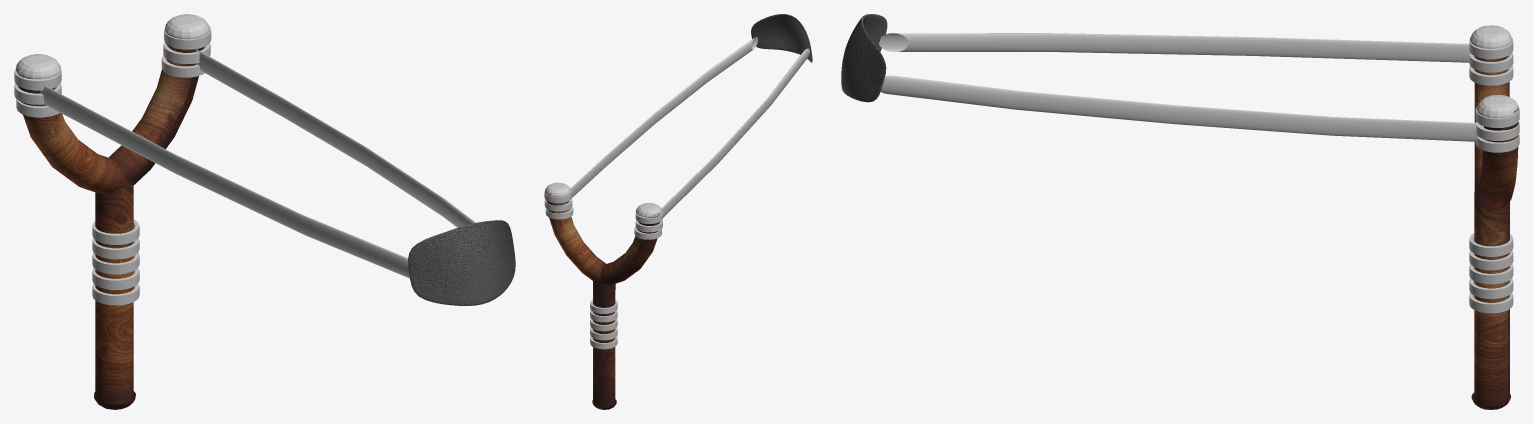
Rendered from slingshot.fbx.
The picture shows the model from 3 angles, left to right: view 1: azimuth 30°, elevation 25°; view 2: azimuth 150°, elevation 25°; view 3: azimuth 270°, elevation 25°; orthographic projection. The views are drawn at different scales.
Visible parts, largest first — view 1: Cylinder005, Sling_Material #49_0, Cylinder002, Cylinder003, Cylinder004, Object001_Scene_White_0, Object002_Scene_White_0, Tube007, Tube011, Tube009, Tube010, Tube008 (+5 smaller); view 2: Cylinder005, Cylinder002, Sling_Material #49_0, Cylinder004, Cylinder003, Object002_Scene_White_0, Object001_Scene_White_0; view 3: Cylinder005, Cylinder002, Sling_Material #49_0, Cylinder004, Cylinder003, Object002_Scene_White_0, Object001_Scene_White_0.
Part boxes in pixels (x1=…): Cylinder005: x1=40, y1=49, x2=475, y2=278; Sling_Material #49_0: x1=408, y1=220, x2=515, y2=305; Cylinder002: x1=95, y1=182, x2=133, y2=403; Cylinder003: x1=16, y1=65, x2=126, y2=194; Cylinder004: x1=109, y1=44, x2=203, y2=185; Object001_Scene_White_0: x1=16, y1=54, x2=61, y2=79; Object002_Scene_White_0: x1=165, y1=14, x2=209, y2=39; Tube007: x1=92, y1=219, x2=139, y2=244; Tube011: x1=92, y1=283, x2=139, y2=305; Tube009: x1=92, y1=252, x2=139, y2=274; Tube010: x1=92, y1=268, x2=139, y2=289; Tube008: x1=92, y1=238, x2=139, y2=259; Cylinder005: x1=570, y1=36, x2=809, y2=217; Cylinder002: x1=593, y1=279, x2=615, y2=406; Sling_Material #49_0: x1=751, y1=14, x2=812, y2=62; Cylinder004: x1=546, y1=192, x2=605, y2=282; Cylinder003: x1=600, y1=213, x2=660, y2=284; Object002_Scene_White_0: x1=545, y1=182, x2=571, y2=197; Object001_Scene_White_0: x1=636, y1=202, x2=661, y2=217; Cylinder005: x1=879, y1=33, x2=1484, y2=141; Cylinder002: x1=1474, y1=192, x2=1509, y2=404; Sling_Material #49_0: x1=841, y1=14, x2=887, y2=102; Cylinder004: x1=1475, y1=108, x2=1518, y2=210; Cylinder003: x1=1474, y1=55, x2=1509, y2=194; Object002_Scene_White_0: x1=1476, y1=95, x2=1519, y2=118; Object001_Scene_White_0: x1=1470, y1=25, x2=1512, y2=49.
Bounding box in the file's own units: 21.15 × 44.1 × 68.76.
Materials: 7 (5 with a texture image).
